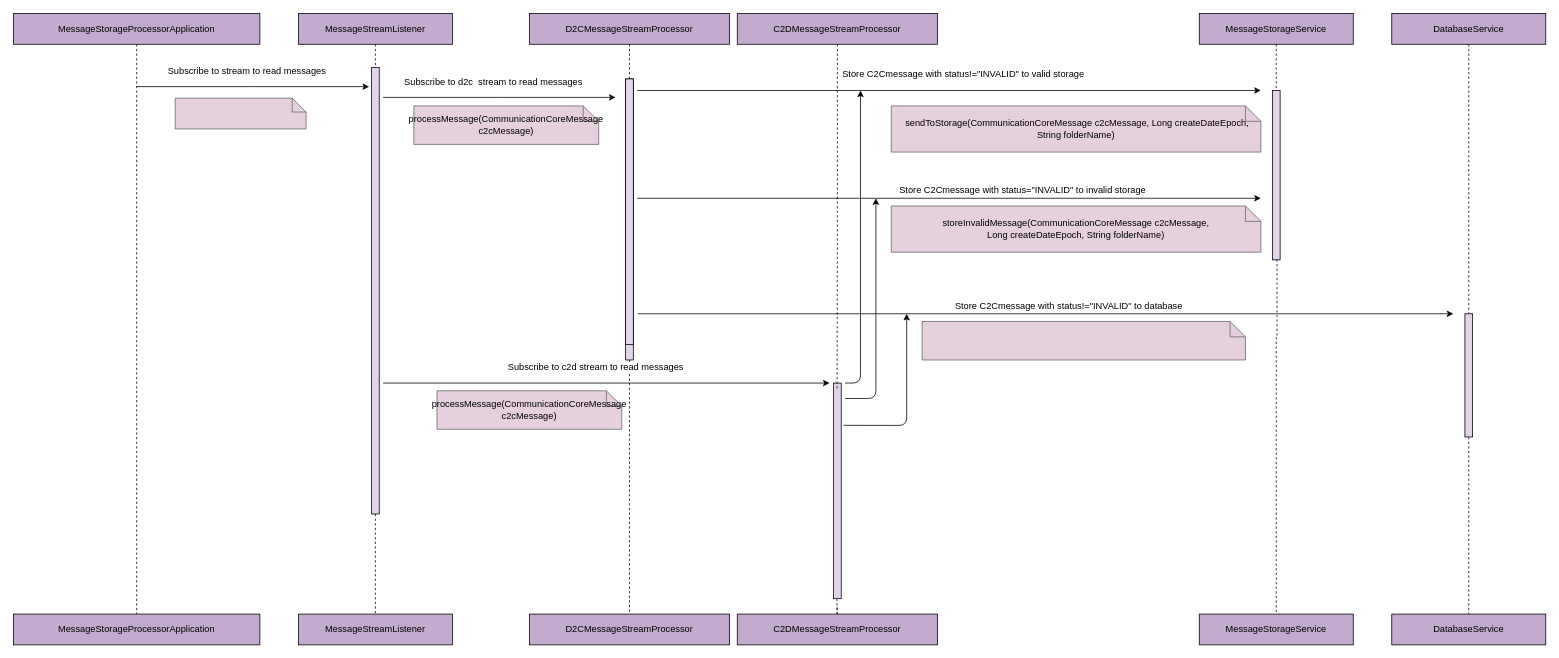
The diagram is 1559 pixels wide and 658 high, and some of its shapes have lost their labels. Each missing label, with the centre of its shape:
C2CMessageLog storeInDatabase(C2CMessageLog device): point 1083,340
void subscribeToStreams(): point 240,113
